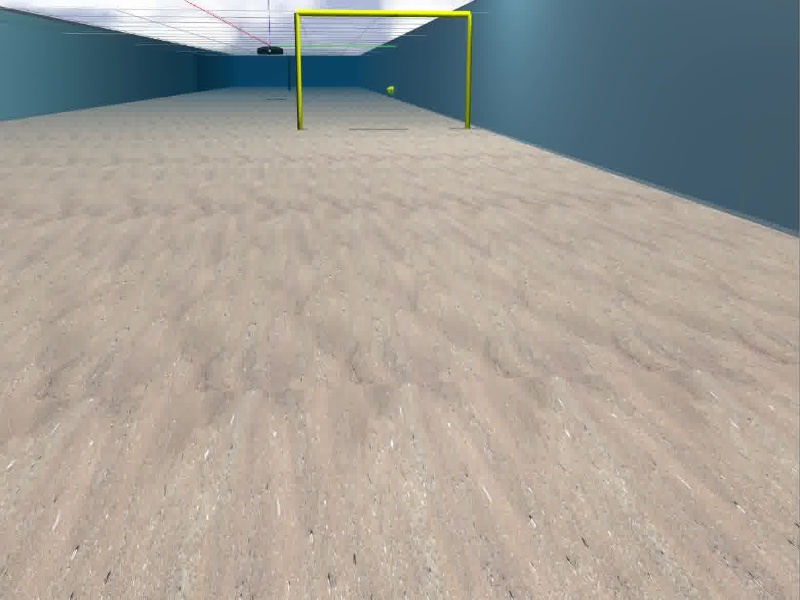gate: (293, 9, 472, 131)
